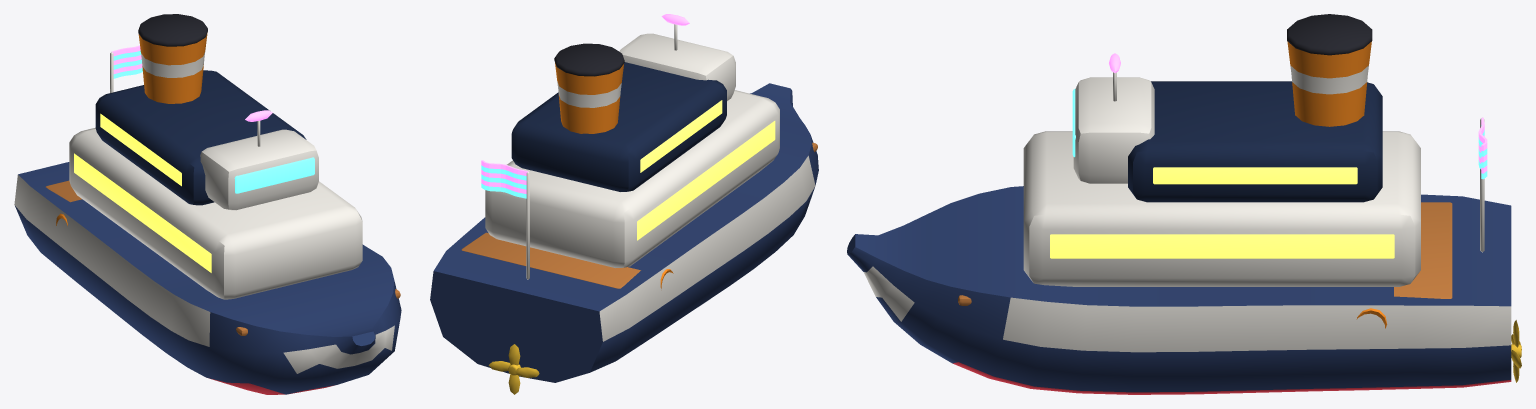
The model's file is W1_Ferry.fbx.
3 renders of one model, left to right at view 1: azimuth 30°, elevation 25°; view 2: azimuth 150°, elevation 25°; view 3: azimuth 270°, elevation 25°, orthographic. The views are drawn at different scales.
Parts seen in each view (by area): view 1: Static, Flag; view 2: Static, Flag, Propeller; view 3: Static.
Boxes of the visible parts, x1=… form: Static: x1=14, y1=14, x2=401, y2=394; Flag: x1=111, y1=45, x2=142, y2=78; Static: x1=430, y1=14, x2=818, y2=382; Flag: x1=481, y1=160, x2=528, y2=198; Propeller: x1=488, y1=344, x2=539, y2=394; Static: x1=847, y1=14, x2=1511, y2=394.
Bounding box in the file's own units: 7.04 × 9.4 × 16.35.
